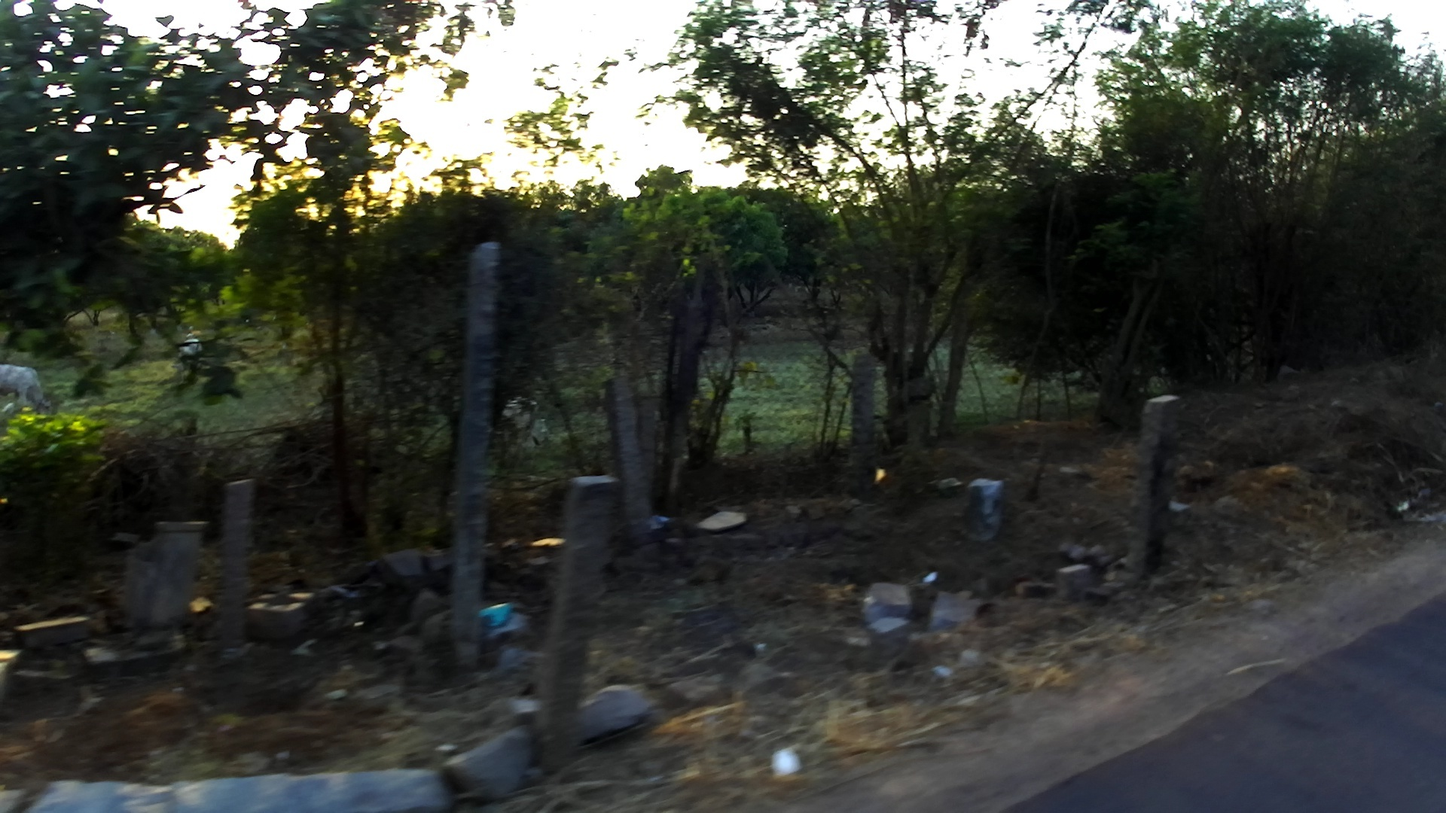animal: (1, 364, 50, 416)
